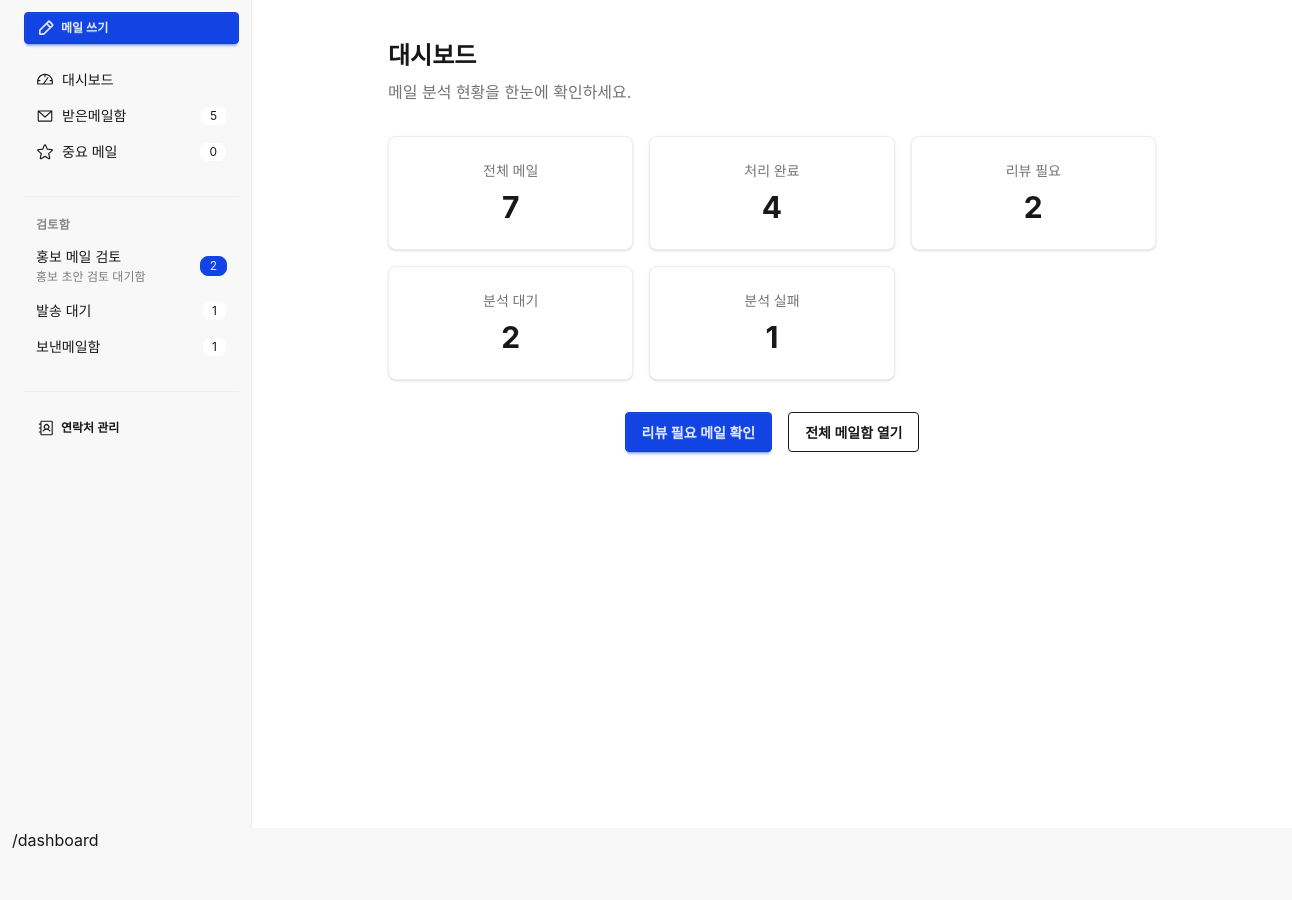
it: clicking review link navigates to /inbox?folder=review
Click the link "리뷰 필요 메일 확인" at (698, 432), box [625, 412, 772, 452]
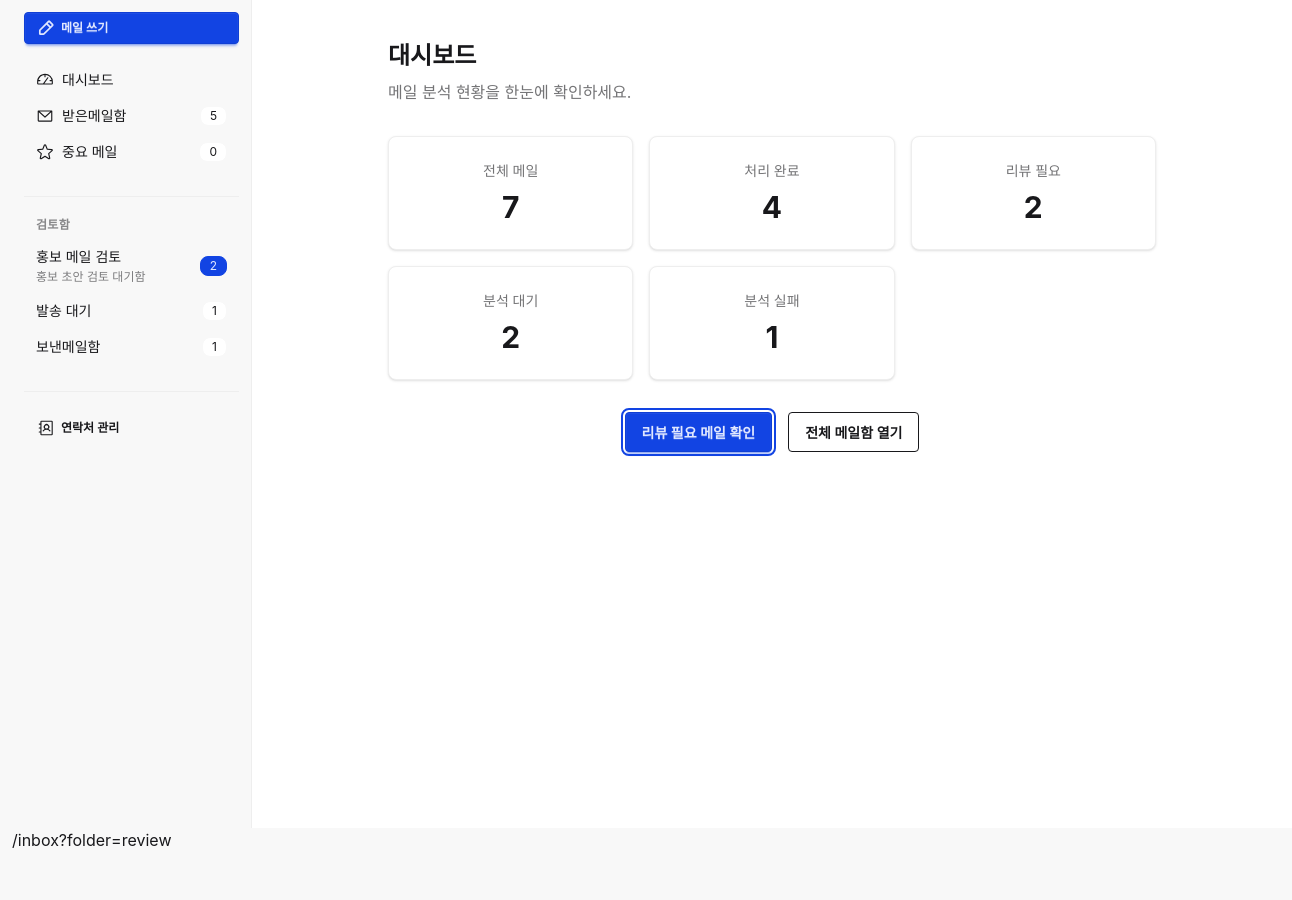
Expected: the text with test id "location-probe" reads "/inbox?folder=review", [12, 830, 172, 850]
